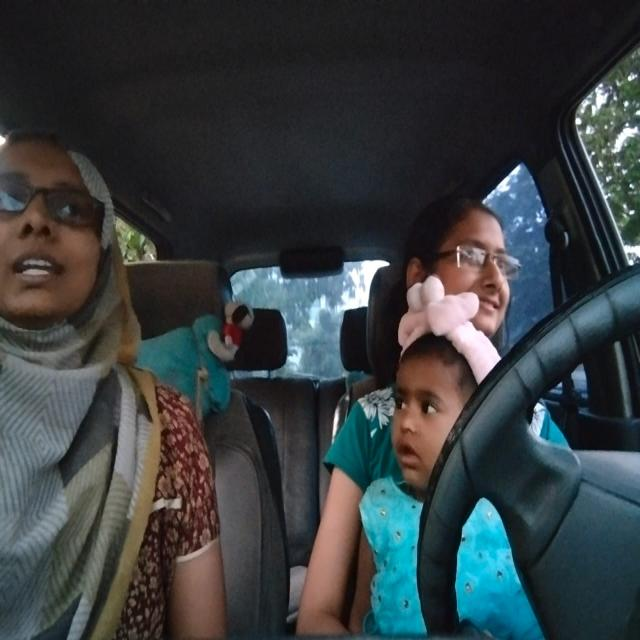child: (391, 277, 505, 505)
person: (2, 115, 126, 363), (404, 186, 521, 336)
